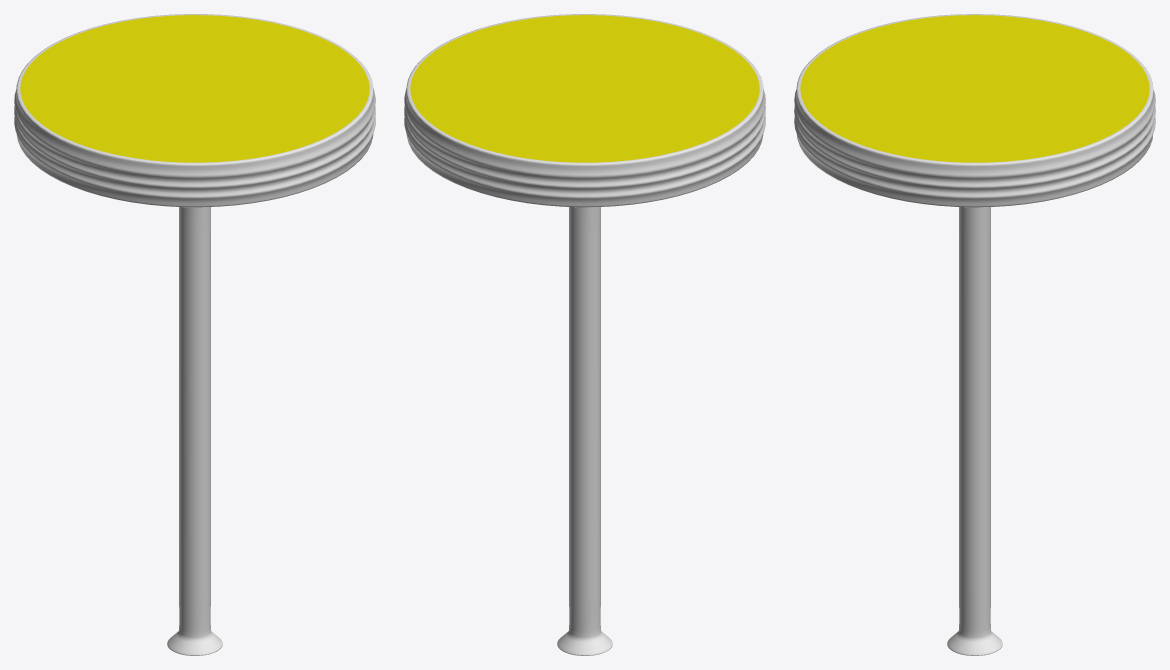
The model's file is metronomicon_v2_table2.fbx.
3 views of the same model, side by side, from view 1: azimuth 30°, elevation 25°; view 2: azimuth 150°, elevation 25°; view 3: azimuth 270°, elevation 25° (orthographic).
Parts seen in each view (by area): view 1: Table; view 2: Table; view 3: Table.
Boxes of the visible parts, left/top/right/bottom form: Table: left=14, top=14, right=375, bottom=655; Table: left=404, top=14, right=765, bottom=655; Table: left=794, top=14, right=1155, bottom=655.
Size of the model in its own units: 731 by 1239 by 731.
